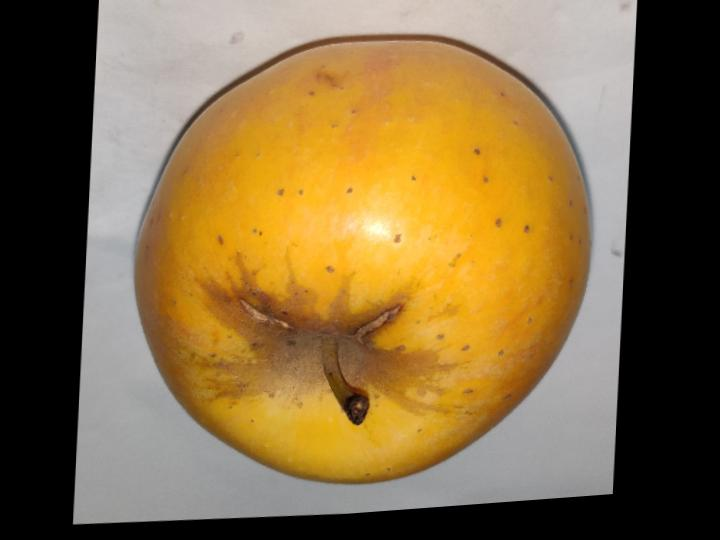apple: (136, 37, 591, 482)
bruise_discoloration: (180, 255, 458, 415)
surface_damage: (354, 304, 401, 342), (239, 298, 292, 329)
